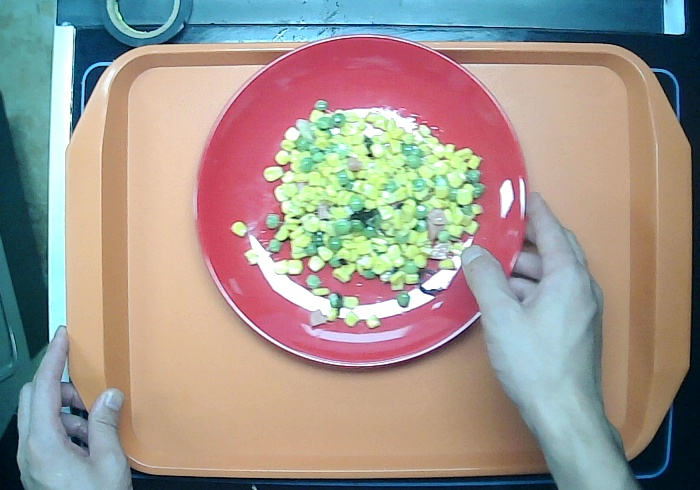HZYJPL-Hong_Se_Yuan_Pan: (194, 33, 529, 367)
